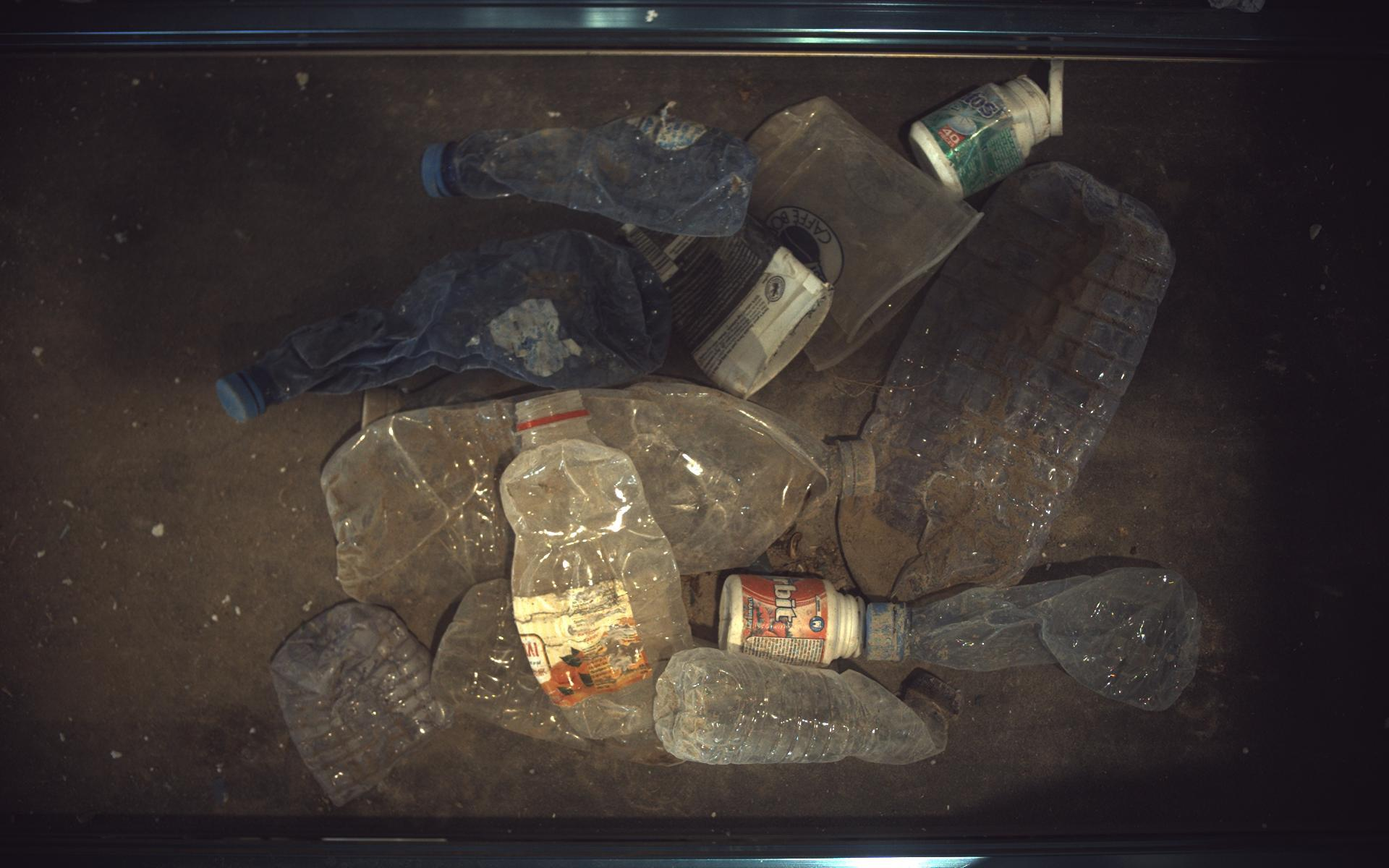general_w: (840, 161, 1177, 601), (218, 229, 671, 419), (501, 391, 693, 741), (749, 95, 982, 370), (582, 380, 877, 575), (865, 569, 1203, 712), (321, 399, 519, 641), (423, 106, 758, 237), (270, 603, 454, 808), (626, 216, 833, 397), (655, 648, 946, 766), (431, 579, 590, 751), (912, 61, 1063, 196), (720, 574, 865, 666), (360, 367, 538, 428)
